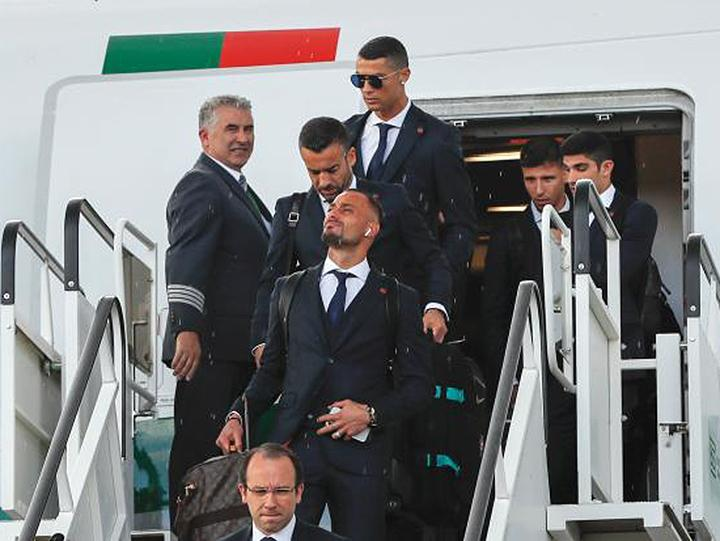earphone: (363, 219, 375, 238)
